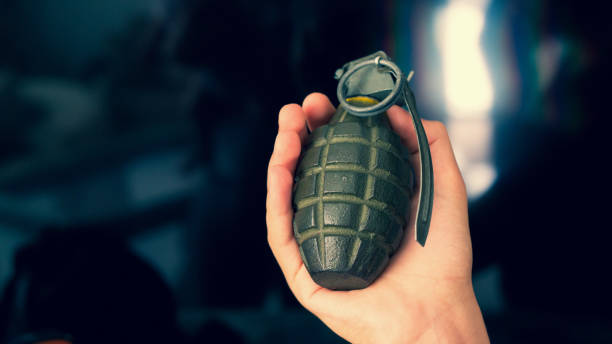e1: (292, 49, 433, 293)
